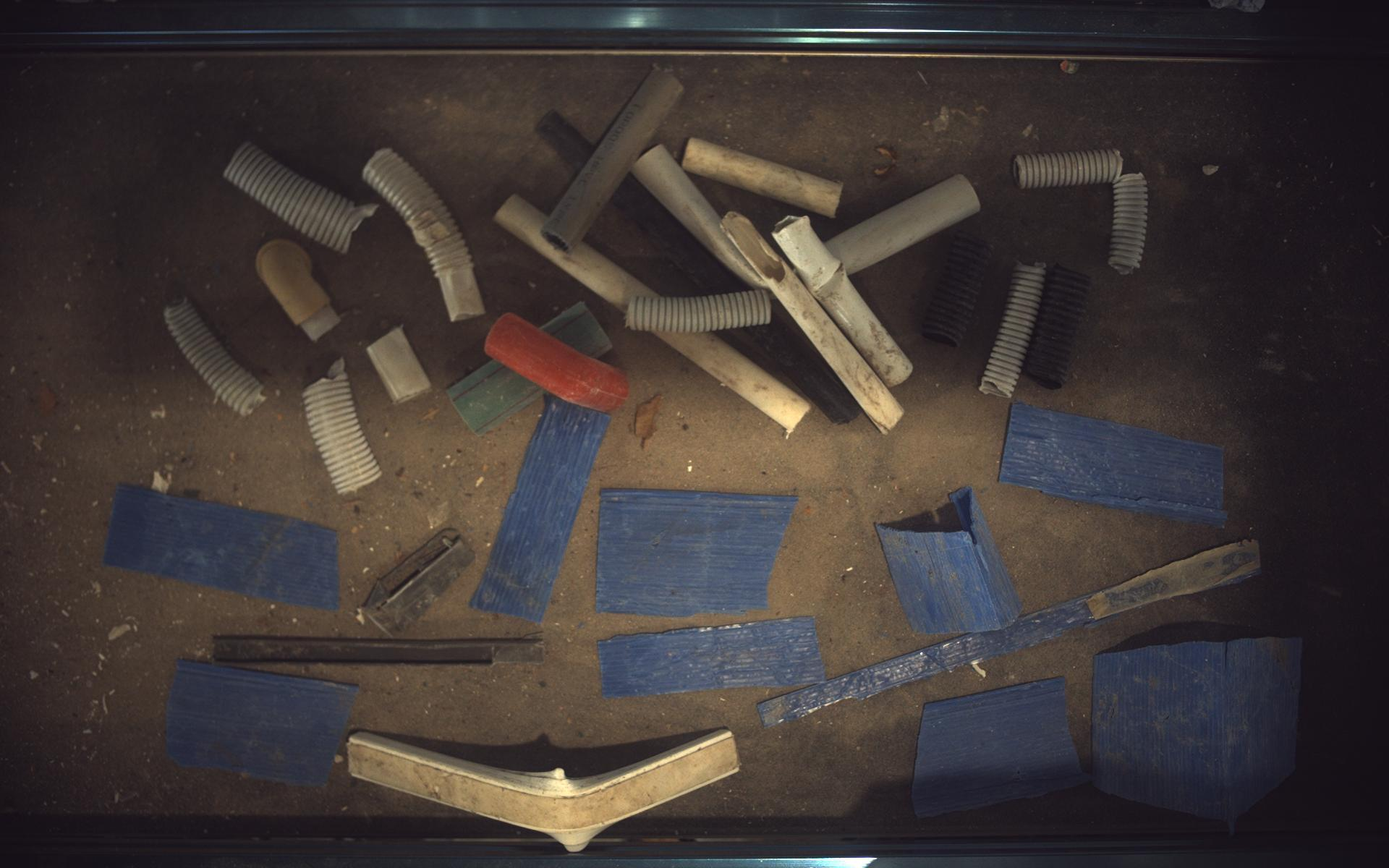pipes: (723, 210, 905, 433), (543, 68, 683, 250), (774, 216, 914, 386), (362, 148, 485, 321), (495, 194, 656, 311), (632, 145, 765, 286), (223, 141, 378, 253), (613, 174, 755, 294), (1016, 148, 1150, 274), (661, 333, 812, 435), (828, 174, 982, 273), (726, 313, 859, 423), (485, 312, 629, 413), (682, 137, 844, 217), (163, 298, 264, 416), (302, 358, 381, 495), (981, 262, 1048, 399), (1025, 264, 1093, 388), (257, 240, 339, 341), (923, 232, 994, 346), (447, 360, 543, 435), (626, 289, 773, 333), (366, 326, 431, 403), (541, 301, 611, 358), (536, 109, 595, 173)
plastic: (759, 540, 1263, 728), (348, 731, 741, 854), (1094, 638, 1304, 825), (470, 395, 611, 624), (102, 485, 339, 610), (1002, 402, 1230, 527), (597, 490, 798, 618), (914, 680, 1091, 819), (166, 662, 357, 788), (915, 680, 1087, 818), (878, 487, 1024, 634), (599, 618, 827, 699), (360, 528, 475, 637), (212, 636, 545, 665)
